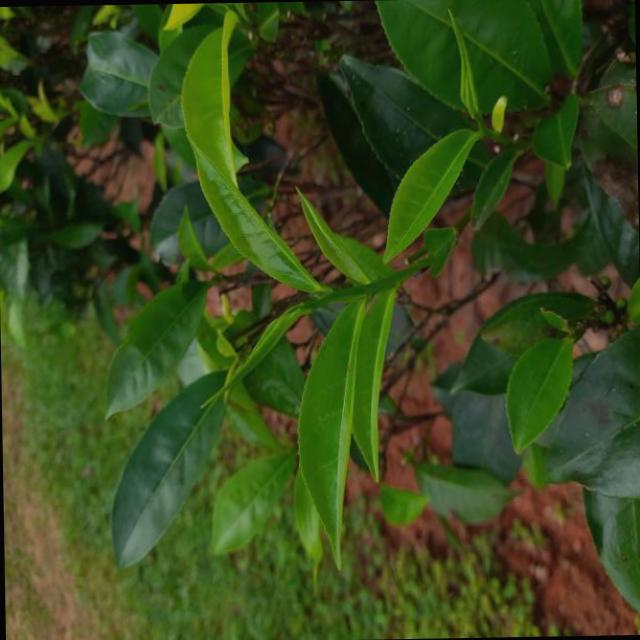Stem: (330, 288, 346, 299)
